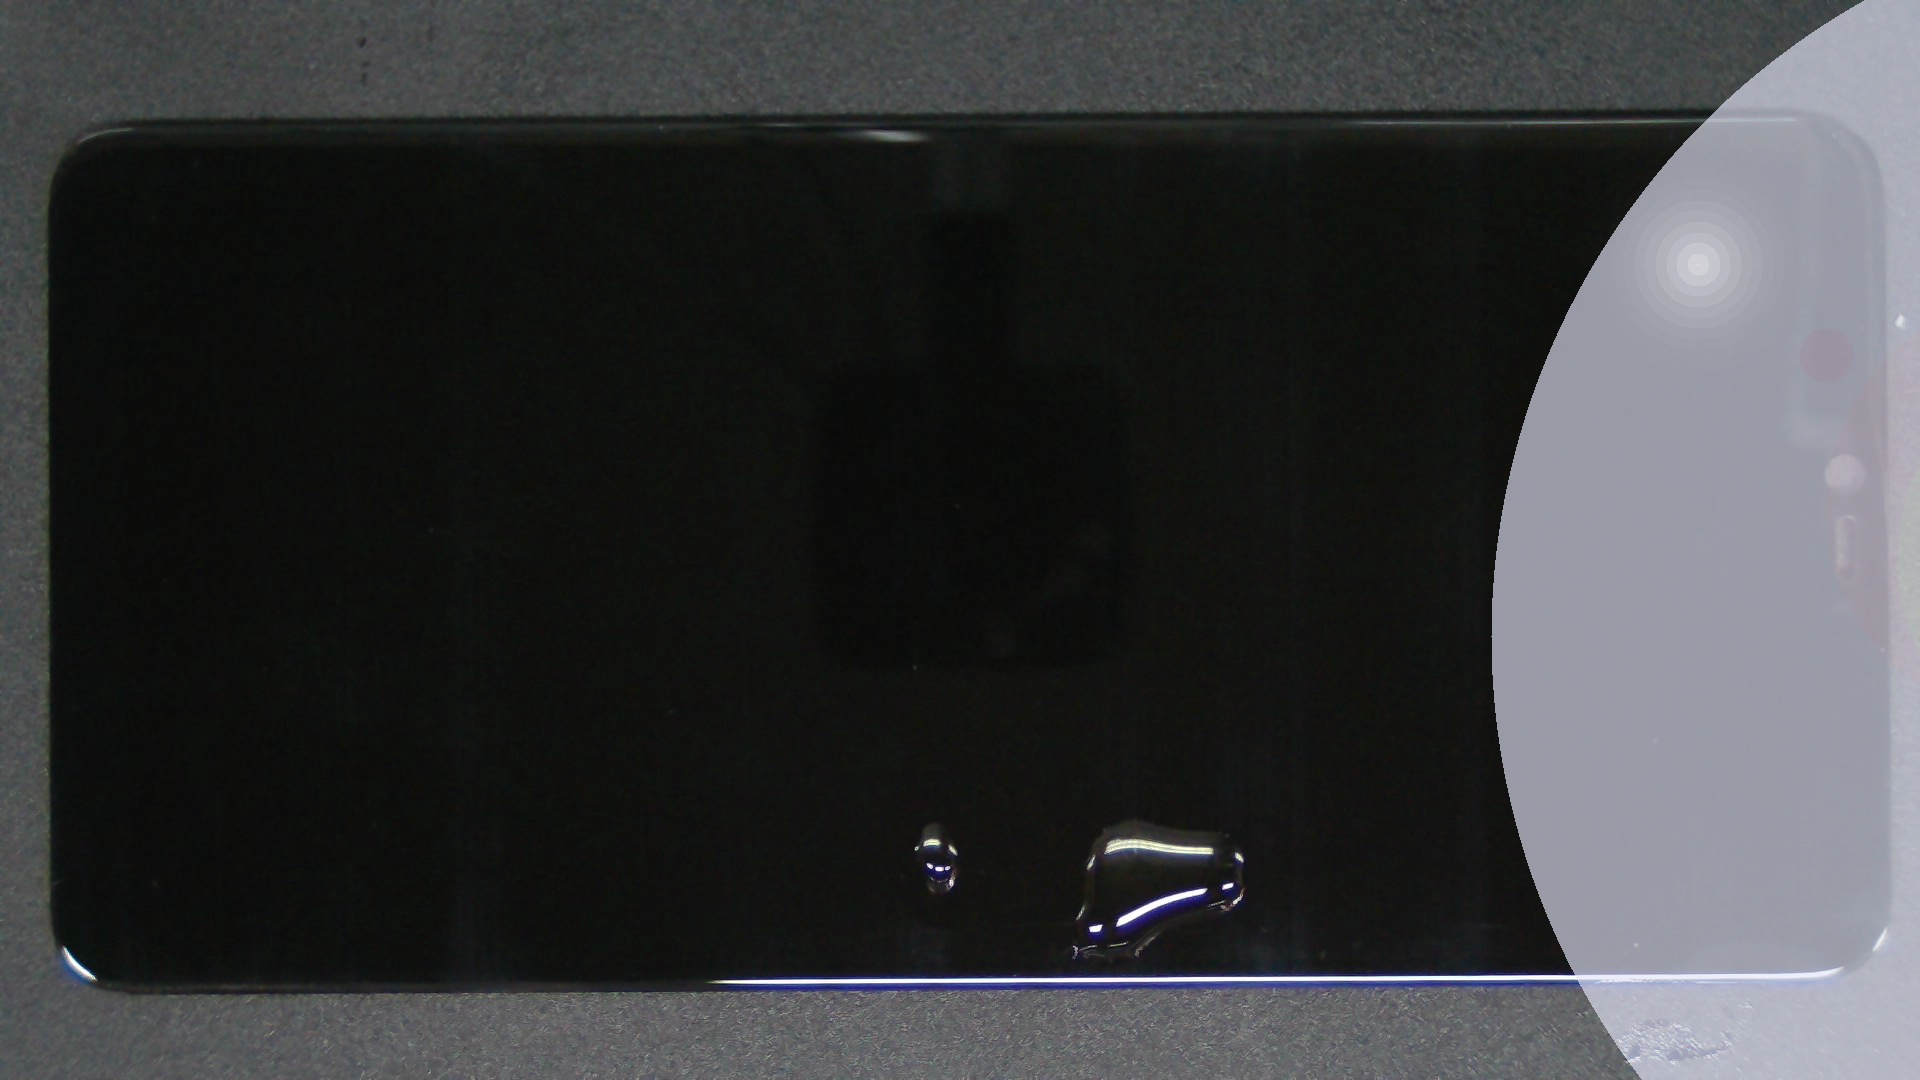oil: (563, 409, 1687, 1080), (467, 411, 1399, 1080)
